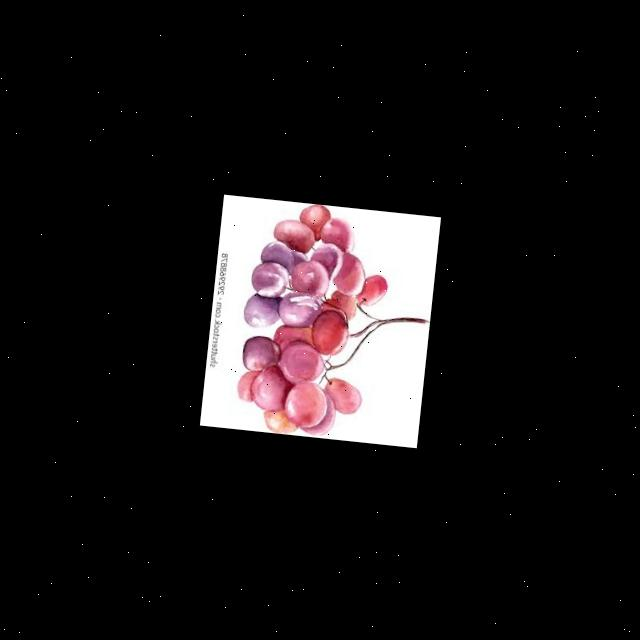grape: (232, 198, 440, 447)
